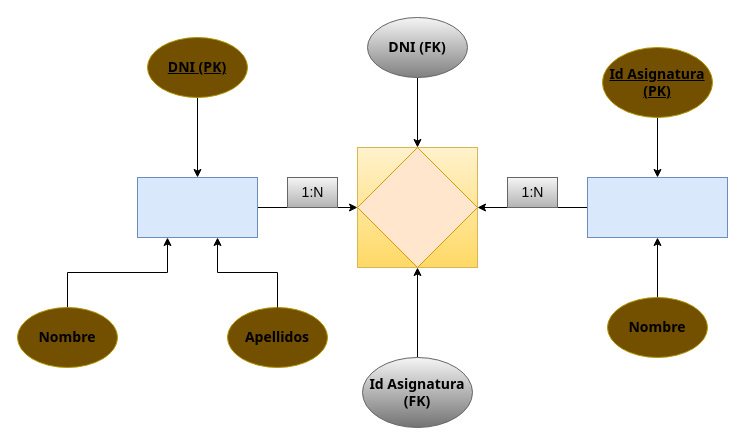
This 745x445 diagram has some shape labels left out. The centre of each missing label's shape, as x and y in pixels:
Alumno: the point at 197,207
Asignatura: the point at 657,207
matriculado en: the point at 417,207
